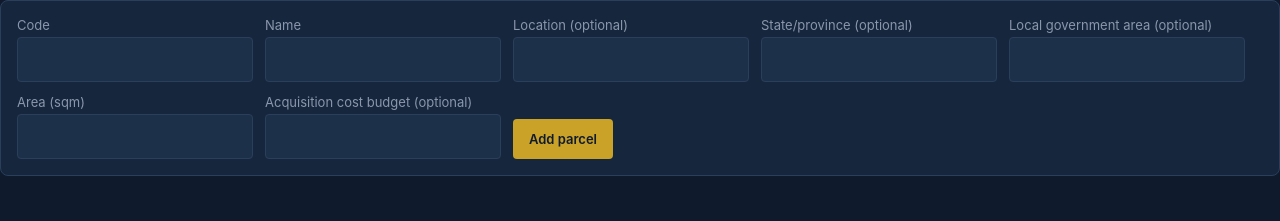
CreateParcelForm › falls back to a generic error message when the action fails without one
Type "LP-001" into the field labelled "Code".
click(135, 60); type("LP-001")  # box [17,37,253,82]
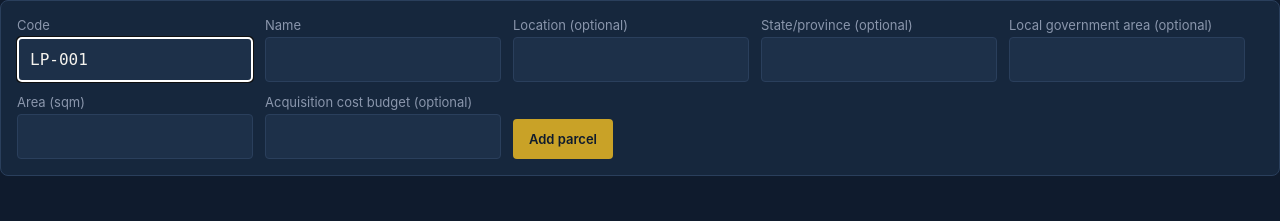
Type "Riverside Parcel A" into the field labelled "Name".
click(383, 60); type("Riverside Parcel A")  # box [265,37,501,82]
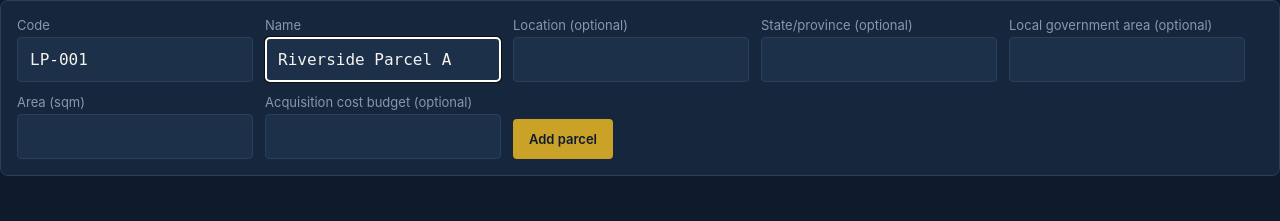
Type "50000" into the number field labelled "Area (sqm)".
click(135, 136); type("50000")  # box [17,114,253,159]
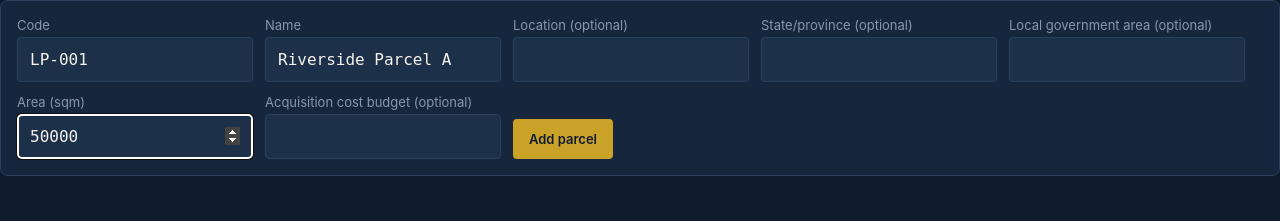
Click the button "Add parcel".
click(563, 139)  # box [513,119,613,159]
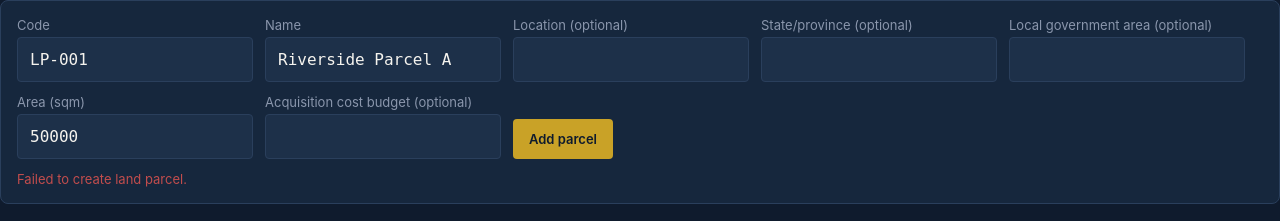
Expected: the text "Failed to create land parcel." is shown, [17,171,187,187]
